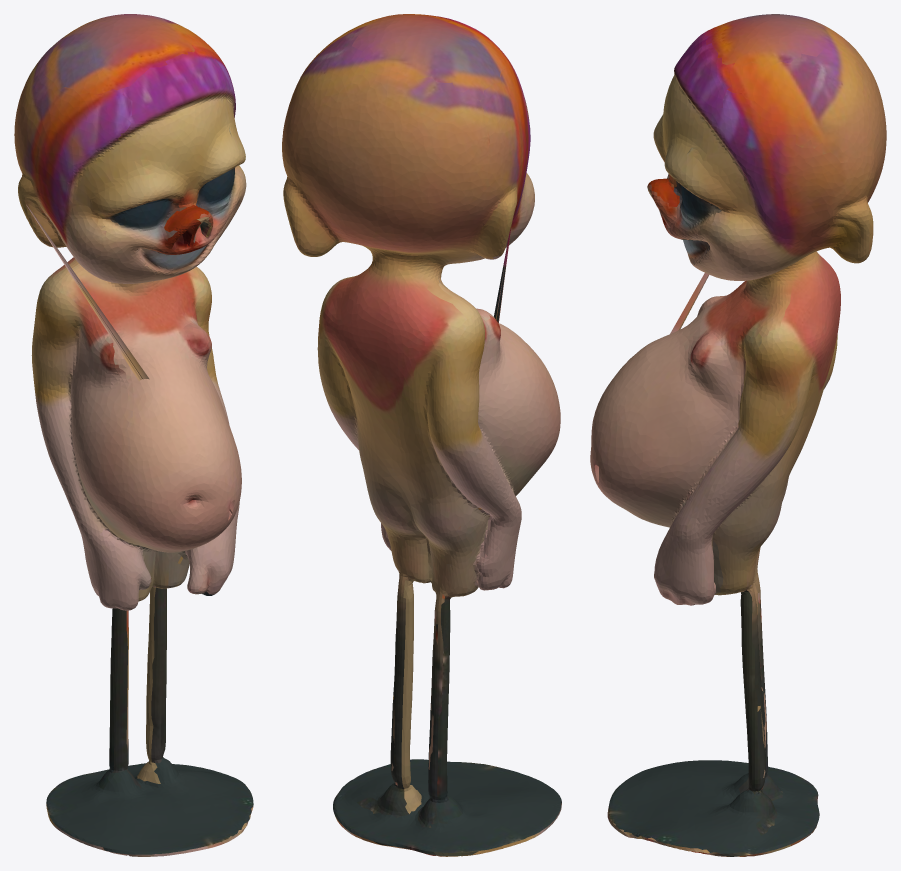
The model's file is garak_creepy4.glb.
3 views of the same model, side by side, from view 1: azimuth 30°, elevation 25°; view 2: azimuth 150°, elevation 25°; view 3: azimuth 270°, elevation 25° (orthographic). The views are drawn at different scales.
Visible parts, largest first — view 1: creepy4.obj; view 2: creepy4.obj; view 3: creepy4.obj.
Boxes of the visible parts, x1,y1,x2,y2 form: creepy4.obj: [14, 14, 253, 856]; creepy4.obj: [282, 14, 561, 856]; creepy4.obj: [590, 14, 886, 856].
Bounding box in the file's own units: 0.5502 × 1.97 × 0.6691.
Materials: 1 (1 with a texture image).
